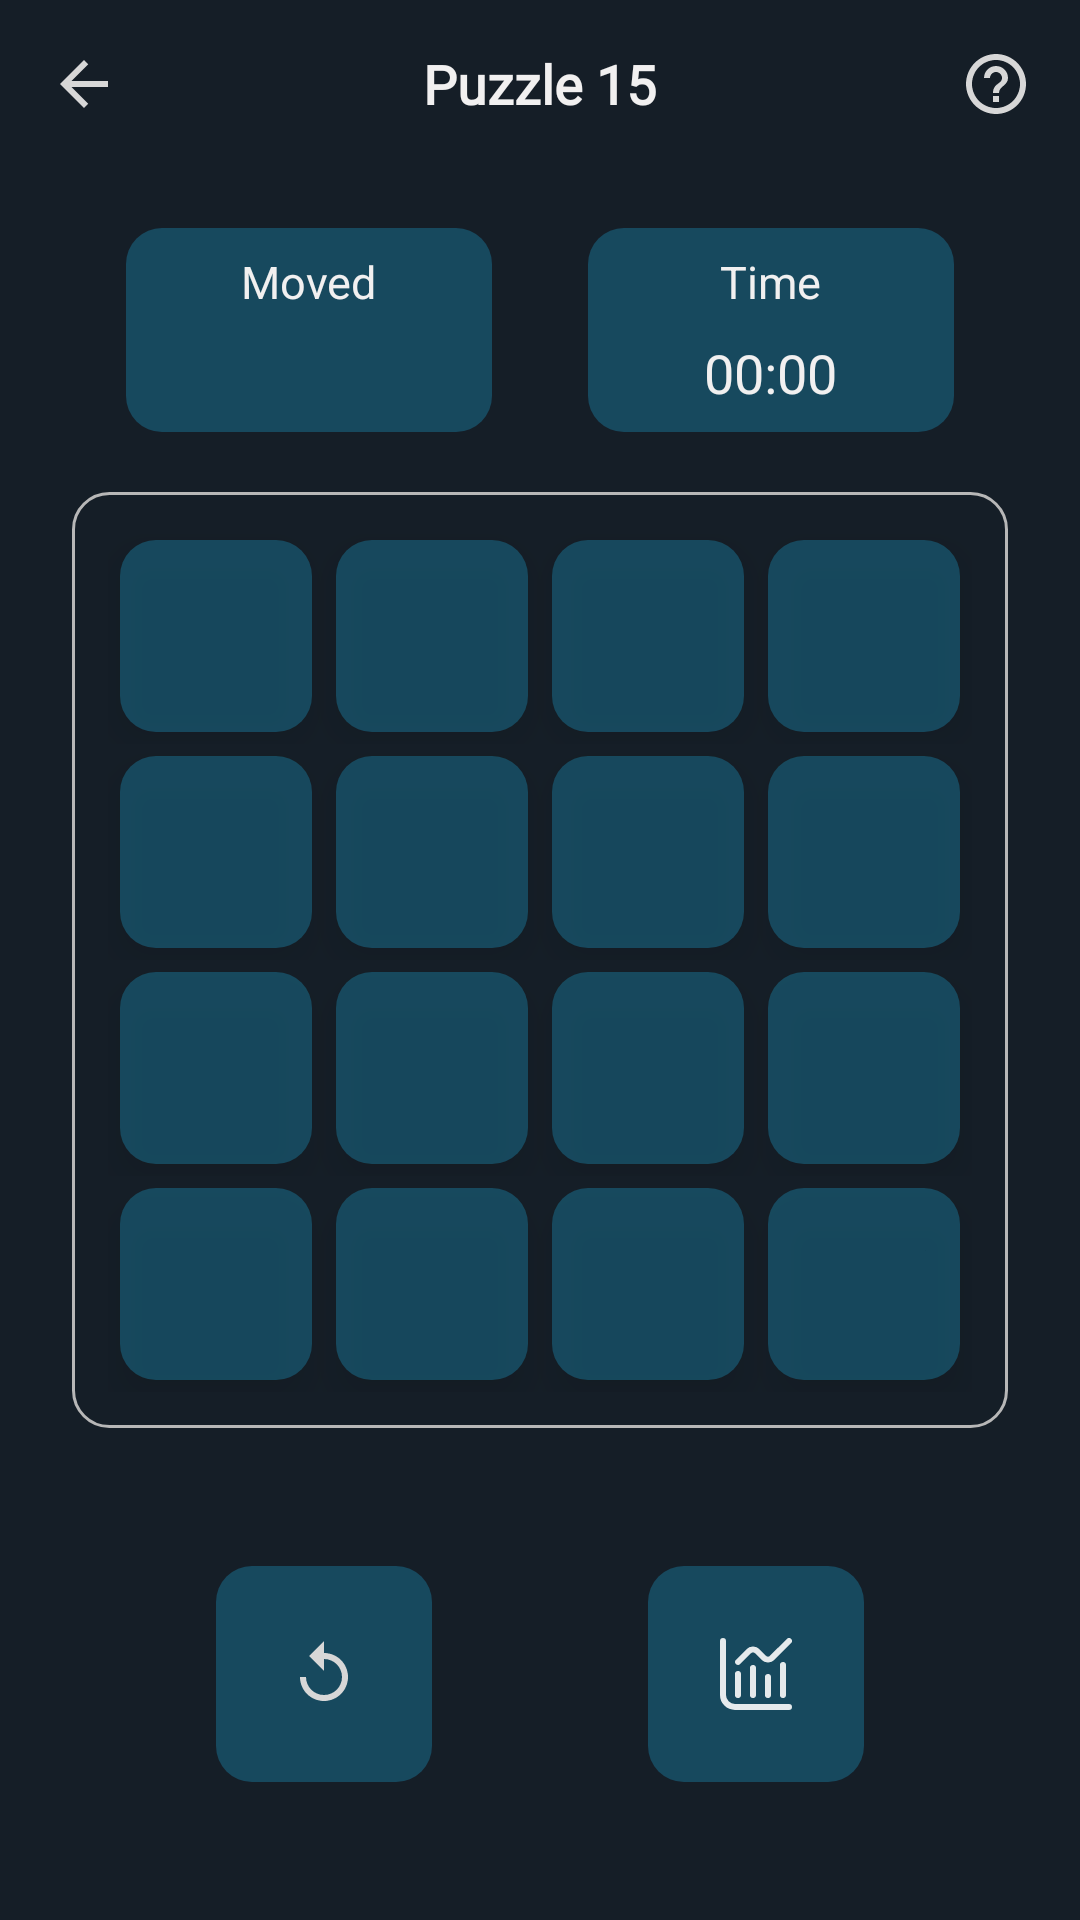

Point at icon controls on the screen. Image size 1080w x 1920h, points as point (x, y).
chart histogram: point (756, 1674)
How to play game: point (996, 84)
Navigate Up: point (84, 84)
repeat: point (324, 1674)
